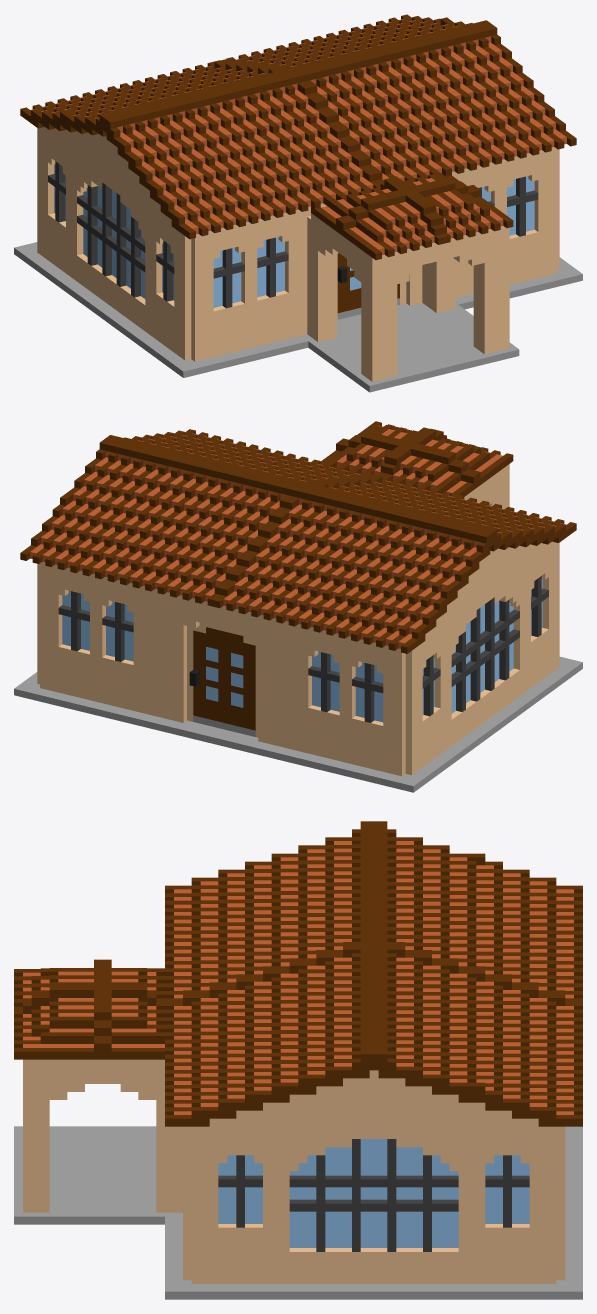
File: obj_house5.obj
3 views of the same model, one above another, from view 1: azimuth 30°, elevation 25°; view 2: azimuth 150°, elevation 25°; view 3: azimuth 270°, elevation 25° (orthographic). The views are drawn at different scales.
Size of the model in its own units: 6.4 by 3 by 6.4.
1 material, 1 textured.
